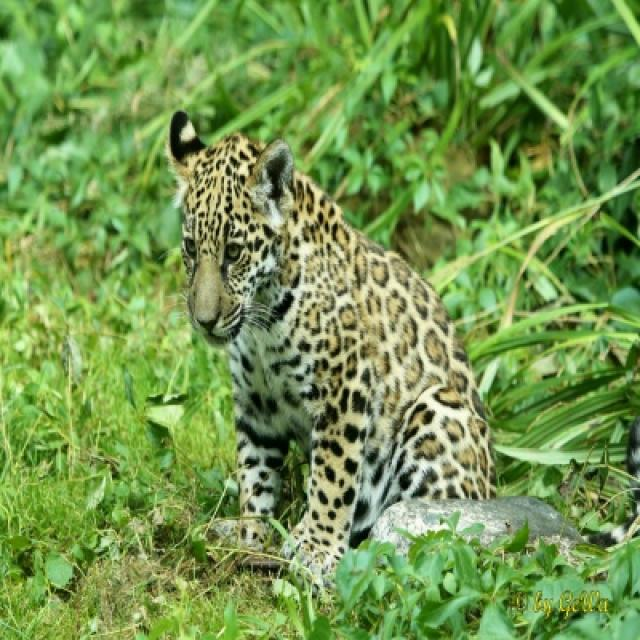Jaguar: (166, 112, 499, 595)
